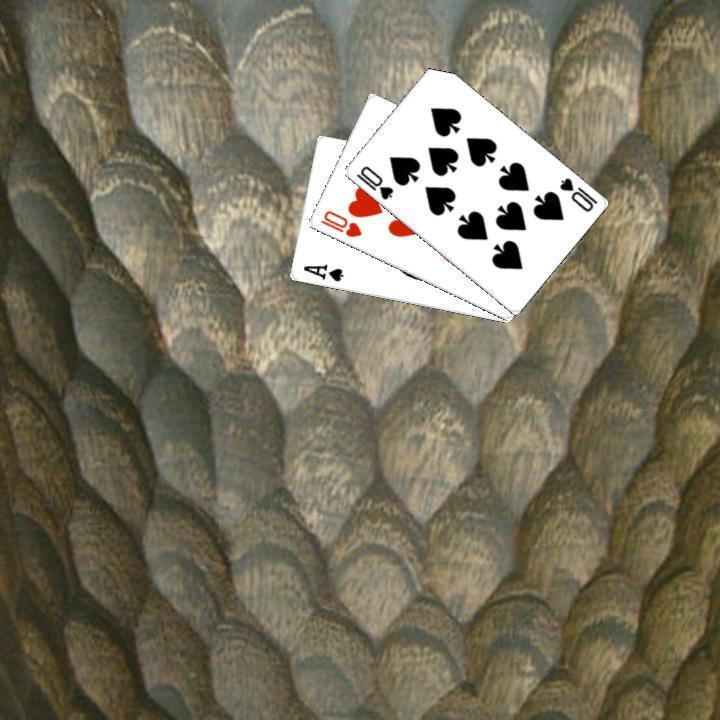10: (351, 161, 395, 202), (555, 173, 599, 214), (316, 206, 364, 240)
A: (298, 260, 345, 284)
